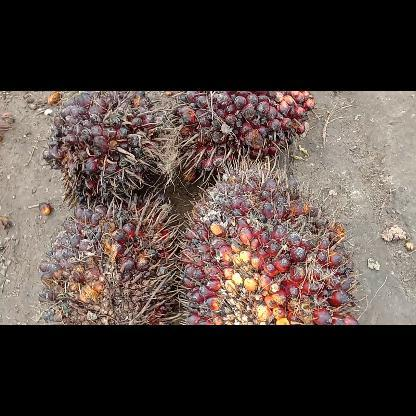TBS masak: (175, 148, 360, 324), (37, 194, 184, 324), (41, 91, 172, 207), (170, 91, 314, 183)
